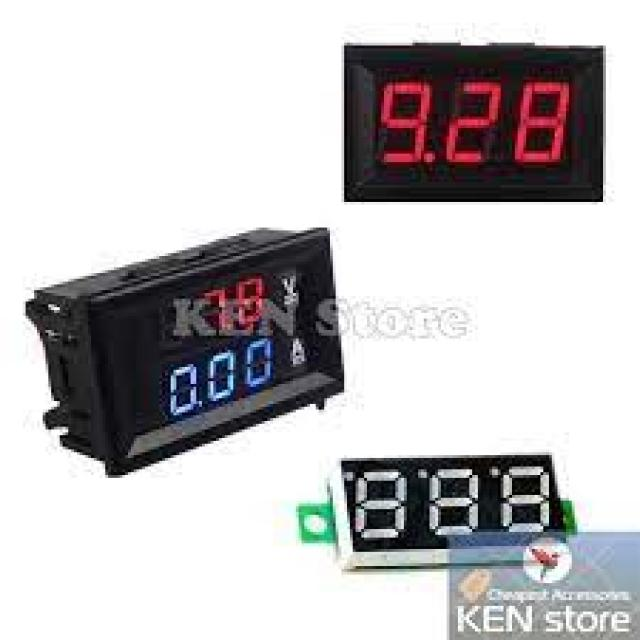.: (425, 152, 436, 164), (198, 399, 205, 408)
0: (166, 359, 197, 416), (207, 349, 238, 406), (246, 336, 278, 386)
2: (437, 79, 511, 171)
7: (202, 285, 225, 333)
8: (518, 83, 587, 168), (235, 274, 268, 334)
9: (368, 79, 438, 170)
screen: (117, 266, 320, 435), (342, 457, 564, 545)
